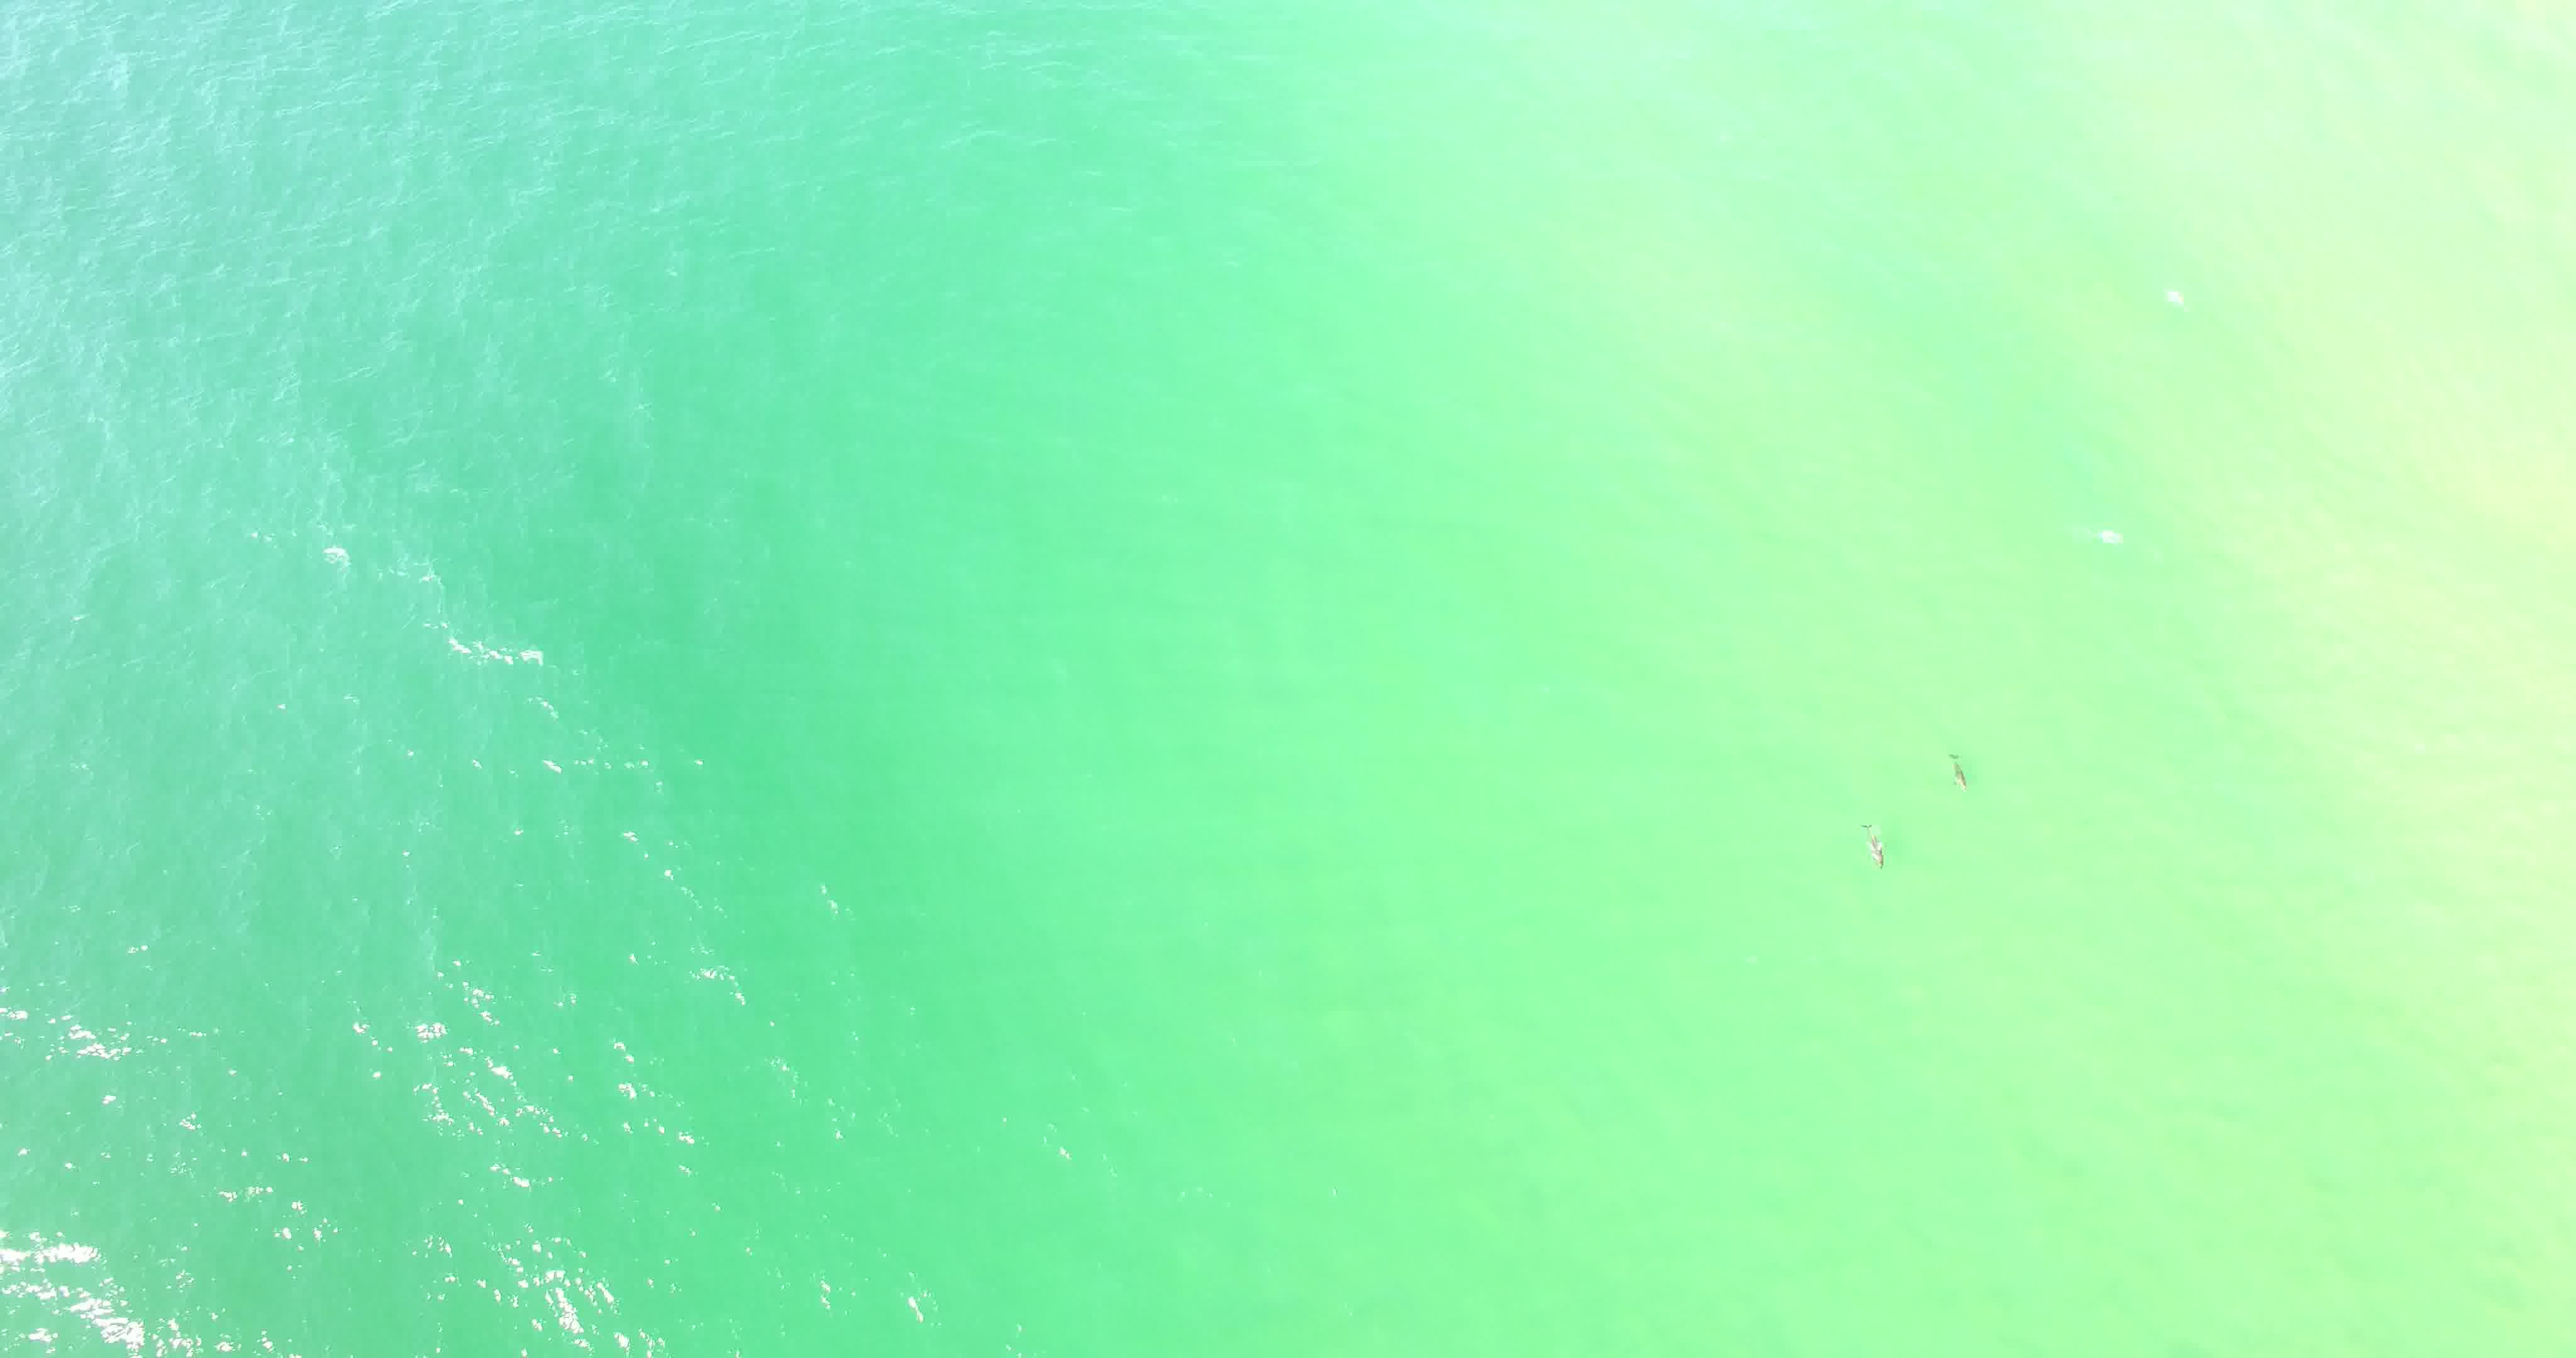dolphin: (1843, 799, 1901, 884), (1929, 729, 1985, 813)
